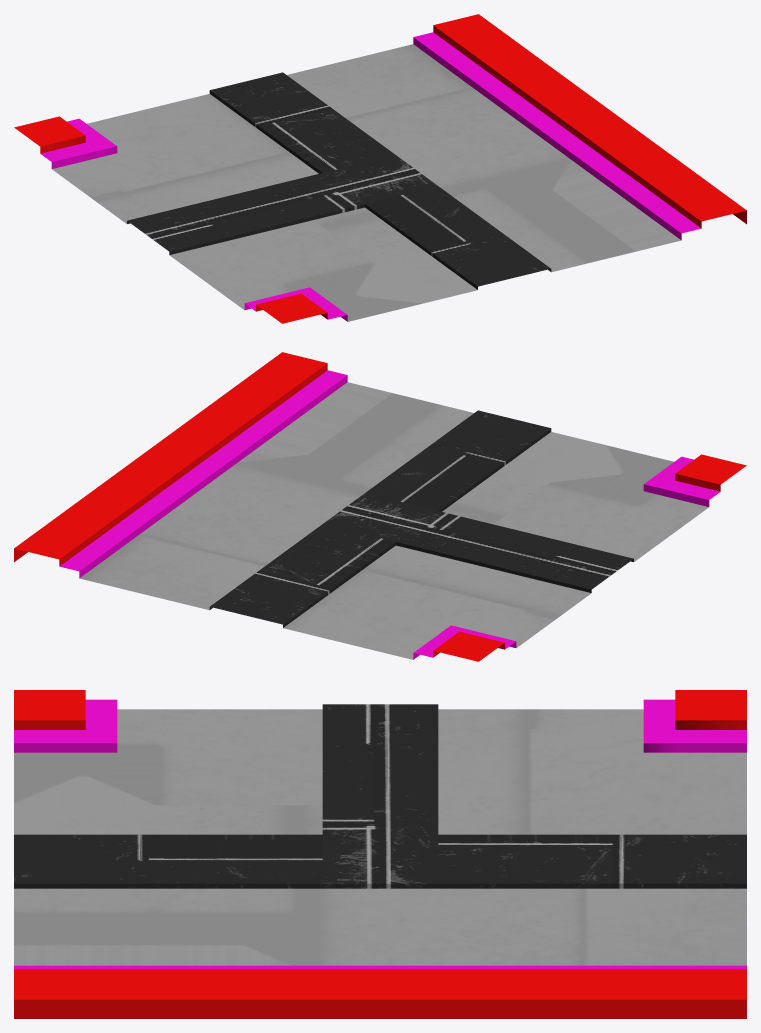
The model's file is Floor-Bifurcation.fbx.
3 views of the same model, one above another, from view 1: azimuth 30°, elevation 25°; view 2: azimuth 150°, elevation 25°; view 3: azimuth 270°, elevation 25° (orthographic). The views are drawn at different scales.
Parts seen in each view (by area): view 1: Bifurcation; view 2: Bifurcation; view 3: Bifurcation.
Part boxes in pixels (x1,y1,x2,y2): Bifurcation: (14, 14, 746, 323); Bifurcation: (14, 352, 746, 661); Bifurcation: (14, 690, 746, 1018).
Size of the model in its own units: 78.74 by 2.28 by 78.74.
Materials: 4 (2 with a texture image).
